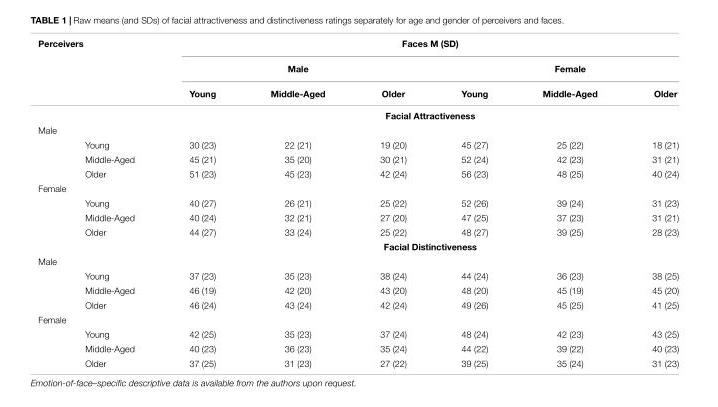table: (37, 37, 678, 367)
table column: (242, 37, 351, 367), (514, 37, 623, 367), (351, 37, 433, 367), (161, 37, 242, 367), (433, 37, 514, 367), (83, 37, 161, 367), (623, 37, 678, 367), (37, 37, 83, 367)
table column header: (37, 37, 678, 103)
table projected row header: (37, 311, 678, 326), (37, 122, 678, 136), (37, 180, 678, 194), (37, 253, 678, 267)
table row: (37, 55, 678, 80), (37, 80, 678, 103), (37, 103, 678, 122), (37, 37, 678, 55), (37, 136, 678, 151), (37, 165, 678, 180), (37, 194, 678, 209), (37, 209, 678, 224), (37, 238, 678, 253), (37, 267, 678, 282), (37, 296, 678, 311), (37, 311, 678, 326), (37, 340, 678, 355), (37, 122, 678, 136), (37, 151, 678, 165), (37, 180, 678, 194), (37, 224, 678, 238), (37, 253, 678, 267), (37, 282, 678, 296), (37, 326, 678, 340), (37, 355, 678, 367)
table spanning cell: (161, 103, 678, 122), (161, 37, 678, 55), (161, 238, 678, 253), (242, 55, 351, 103), (514, 55, 623, 103), (351, 55, 433, 103), (161, 55, 242, 103), (433, 55, 514, 103), (37, 37, 83, 103), (623, 55, 678, 103)
